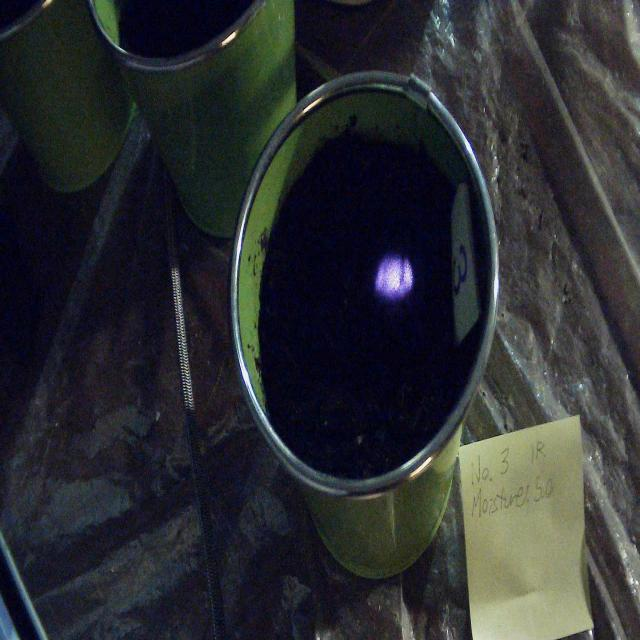soil-moisture-5.0: (375, 256, 414, 299)
